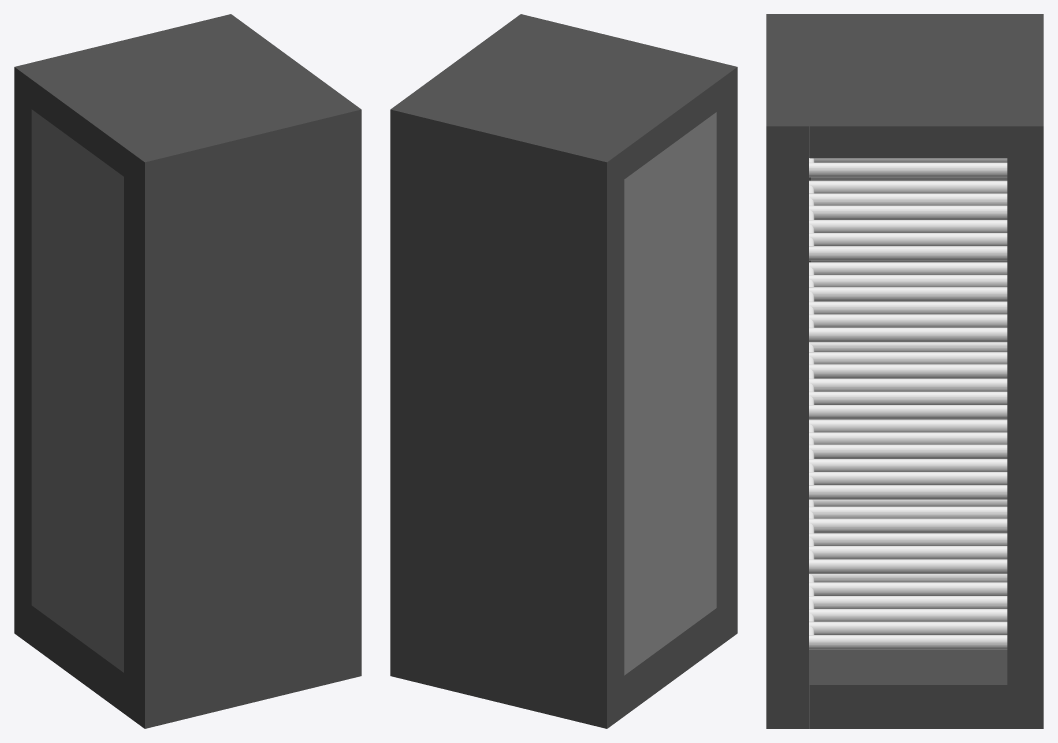
File: Smoker.fbx
3 renders of one model, left to right at view 1: azimuth 30°, elevation 25°; view 2: azimuth 150°, elevation 25°; view 3: azimuth 270°, elevation 25°, orthographic. The views are drawn at different scales.
Visible parts, largest first — view 1: Cube.029; view 2: Cube.029; view 3: Cube.029, Cylinder.048.
Part boxes in pixels (x1,y1,x2,y2): Cube.029: (14,14,361,728); Cube.029: (390,14,737,728); Cube.029: (766,14,1043,728); Cylinder.048: (809,158,1007,649).
Size of the model in its own units: 493 by 1231 by 514.
